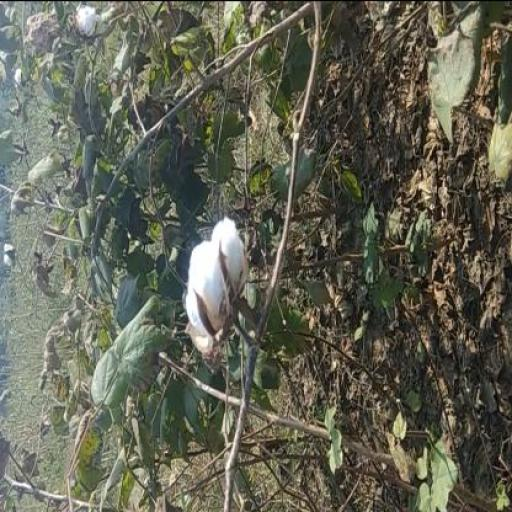cotton_ready: (174, 220, 270, 348)
